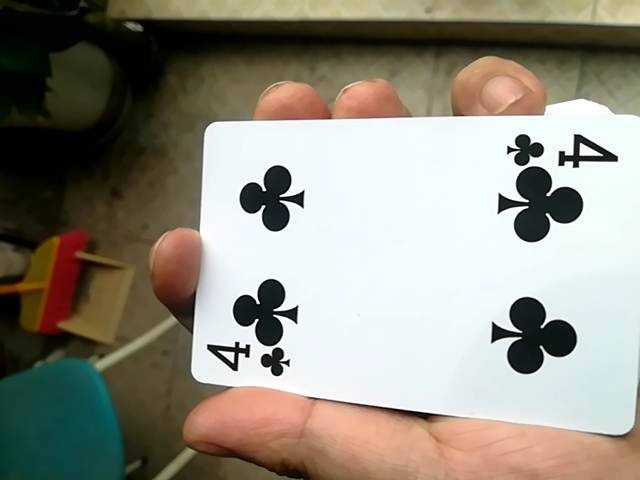mh 4: (168, 110, 636, 435)
